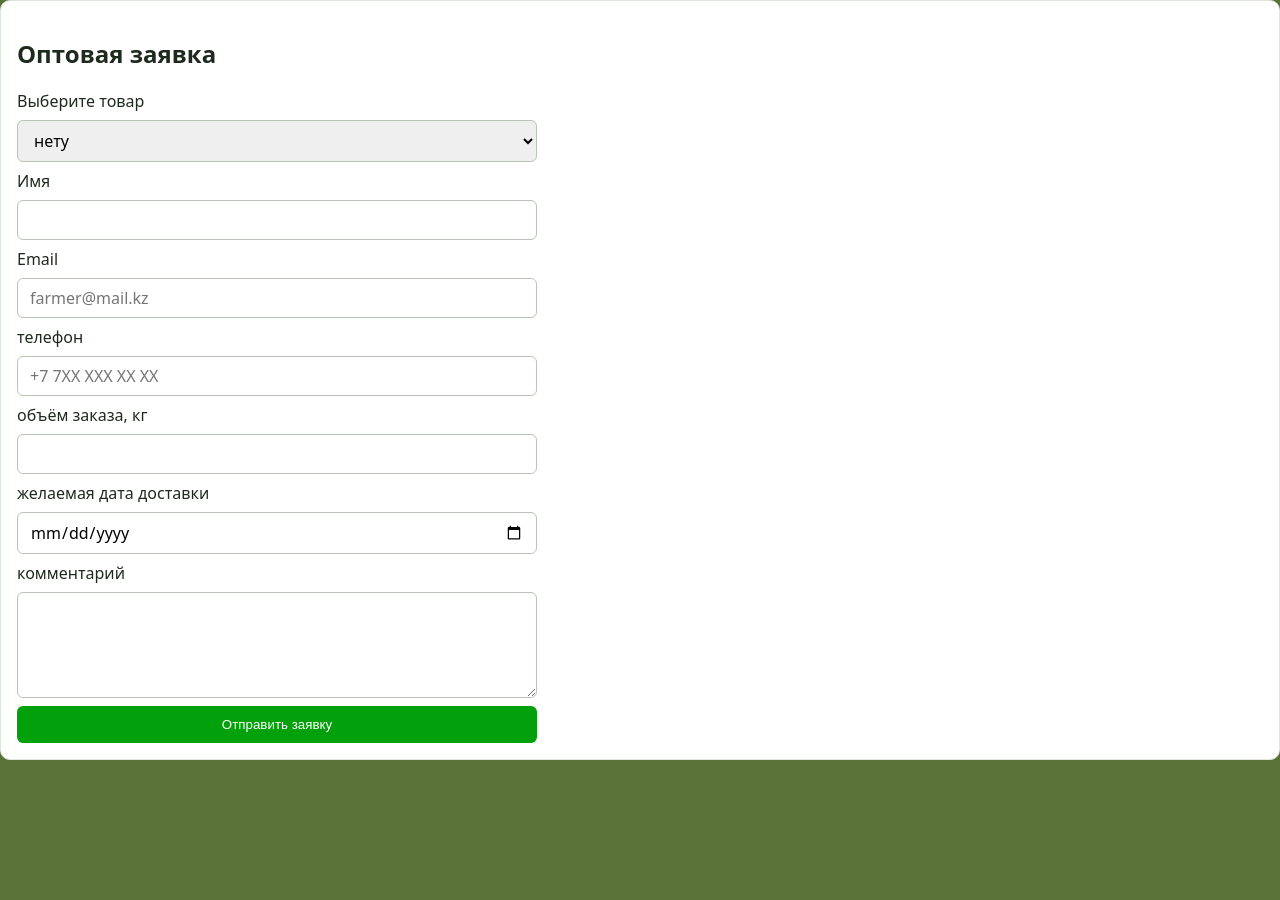
Test: Оптовая заявка — MSW › 401 сохраняет ввод и просит войти заново
This screenshot has width=1280, height=900.
Select "Мёд гречишный" in the dropdown labelled "Выберите товар": (277, 141) [17, 120, 537, 162]
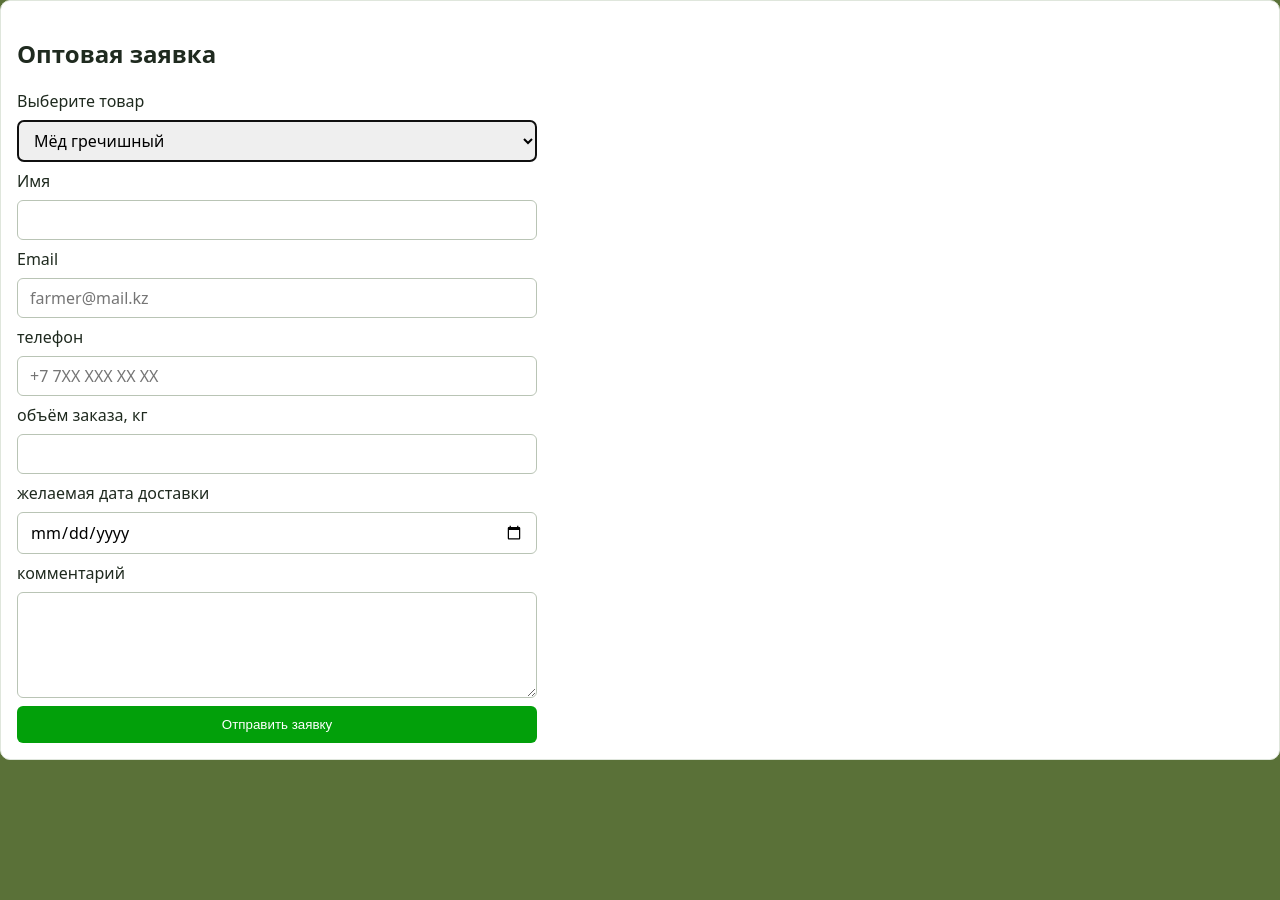
In the field labelled "Имя": (277, 220) [17, 200, 537, 240], type "Покупатель"
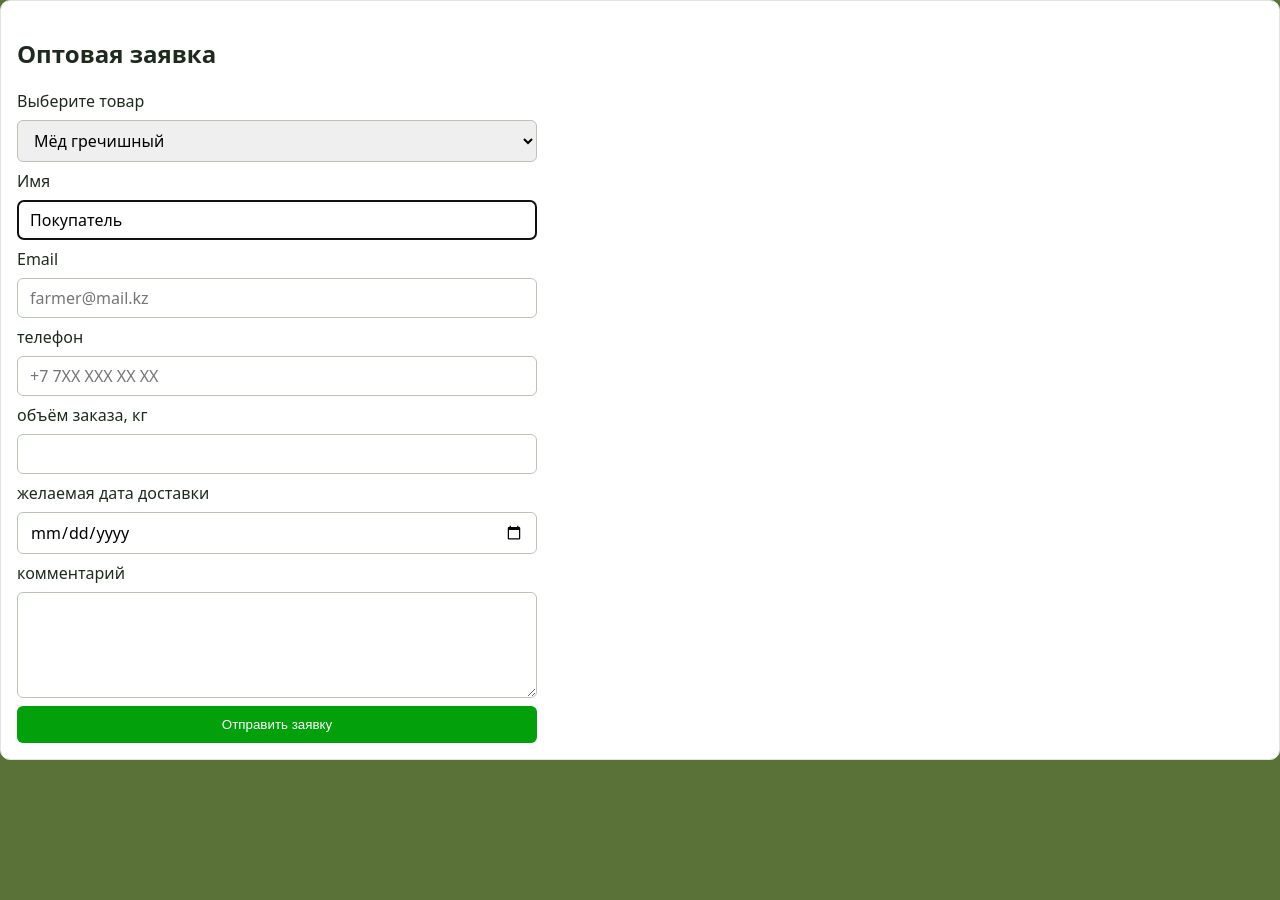
In the field labelled "Email": (277, 298) [17, 278, 537, 318], type "buyer@example.test"
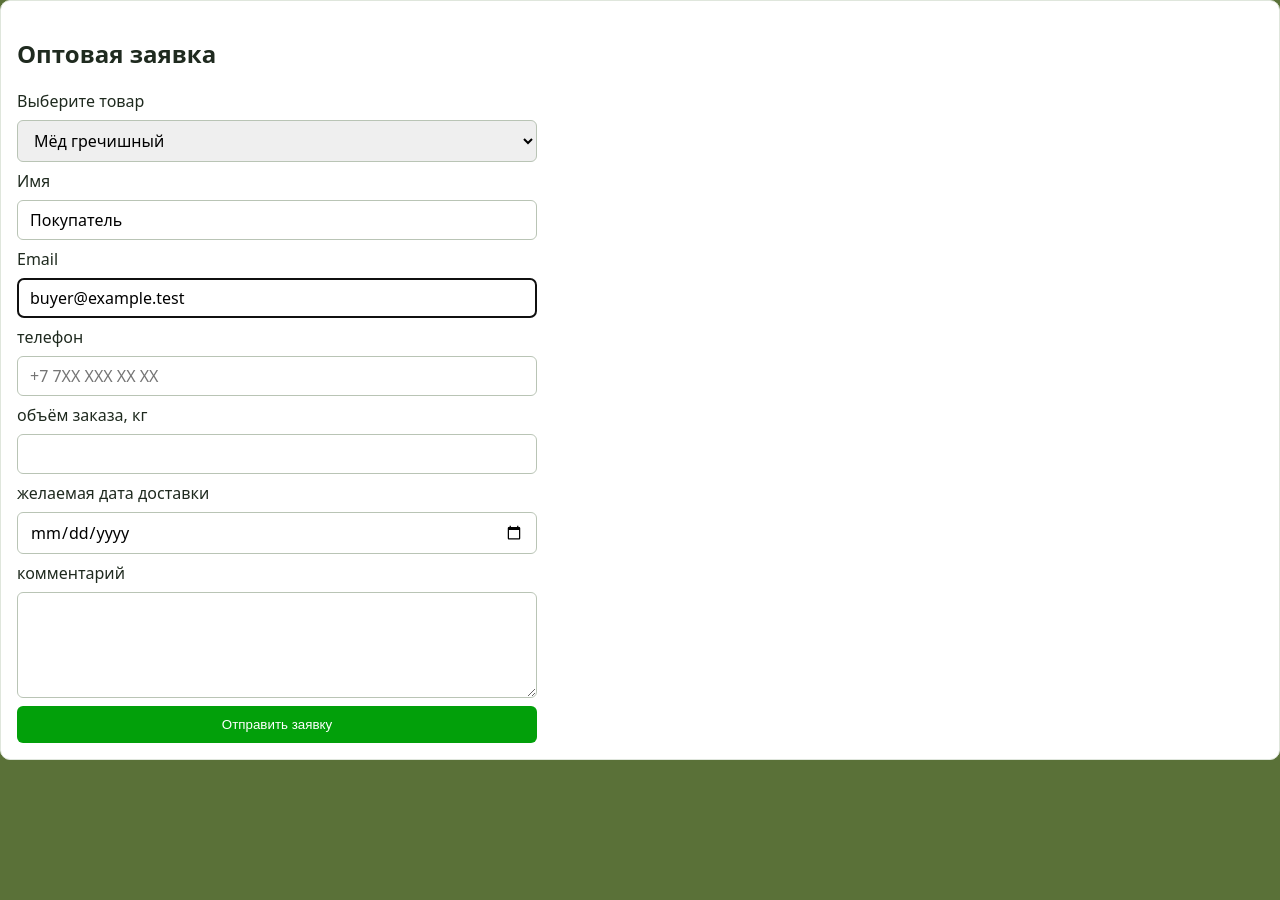
In the number field labelled "объём заказа, кг": (277, 454) [17, 434, 537, 474], type "10"
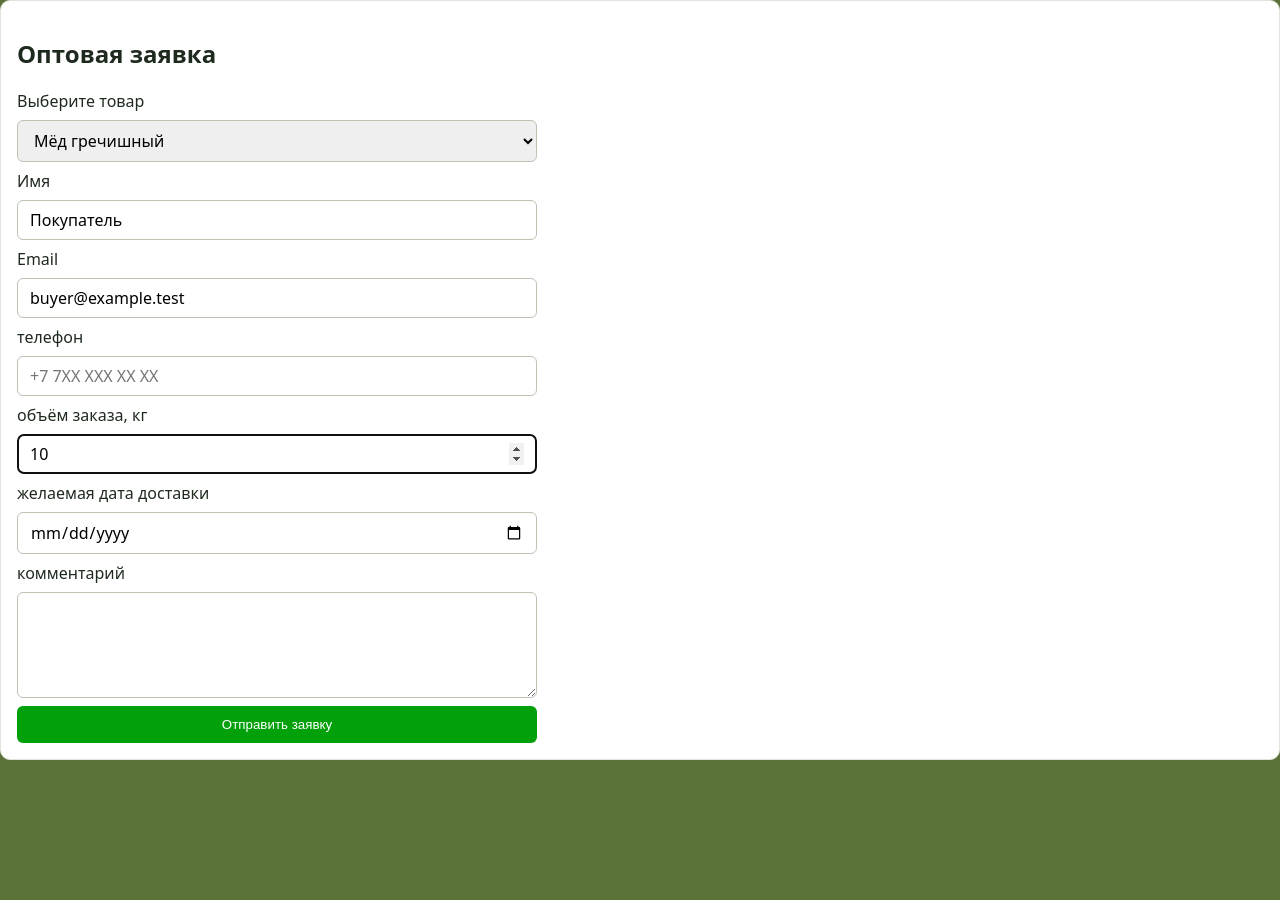
Click the button "Отправить заявку": (277, 724) [17, 706, 537, 743]
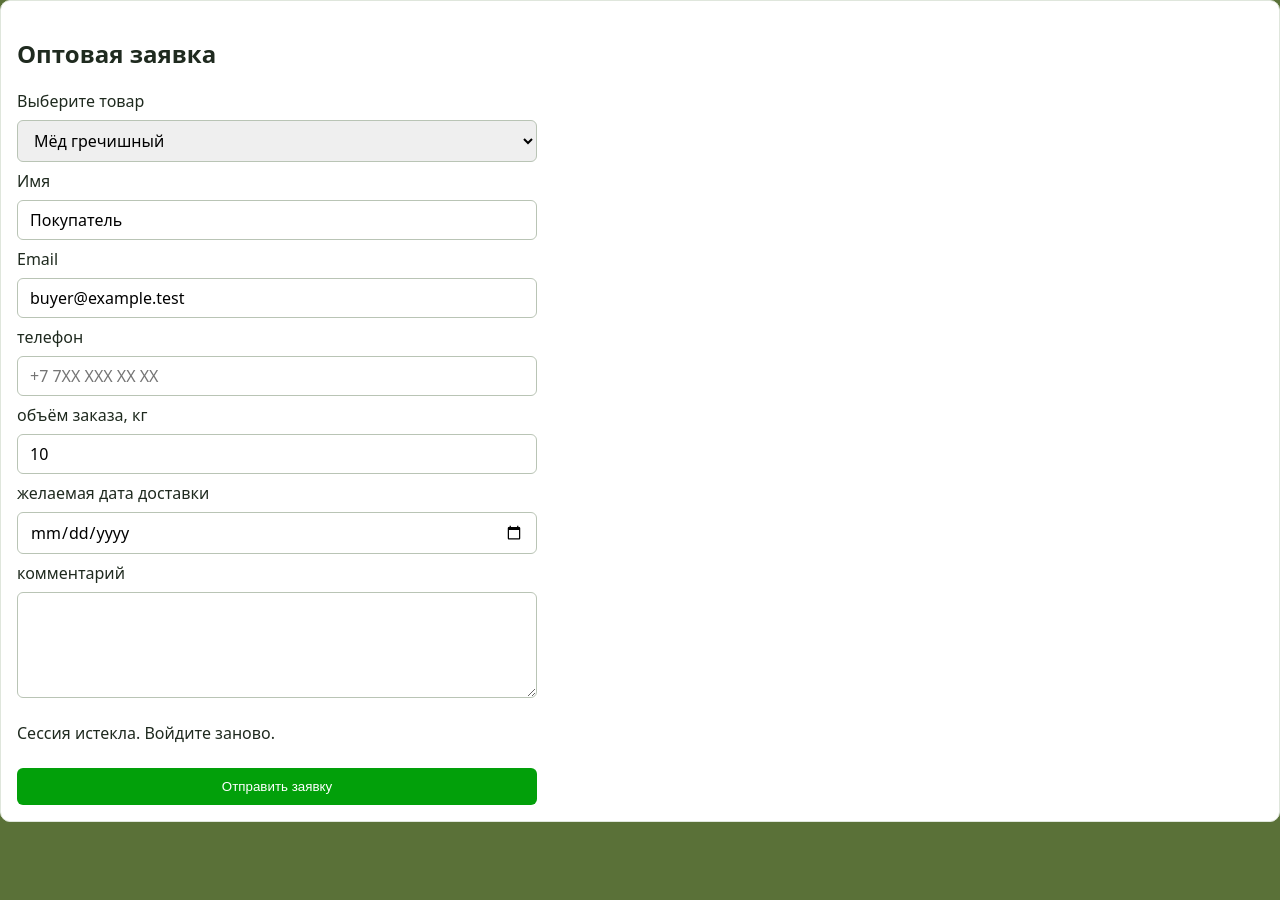
expect the message shows "Войдите заново": met, box [17, 722, 275, 744]
